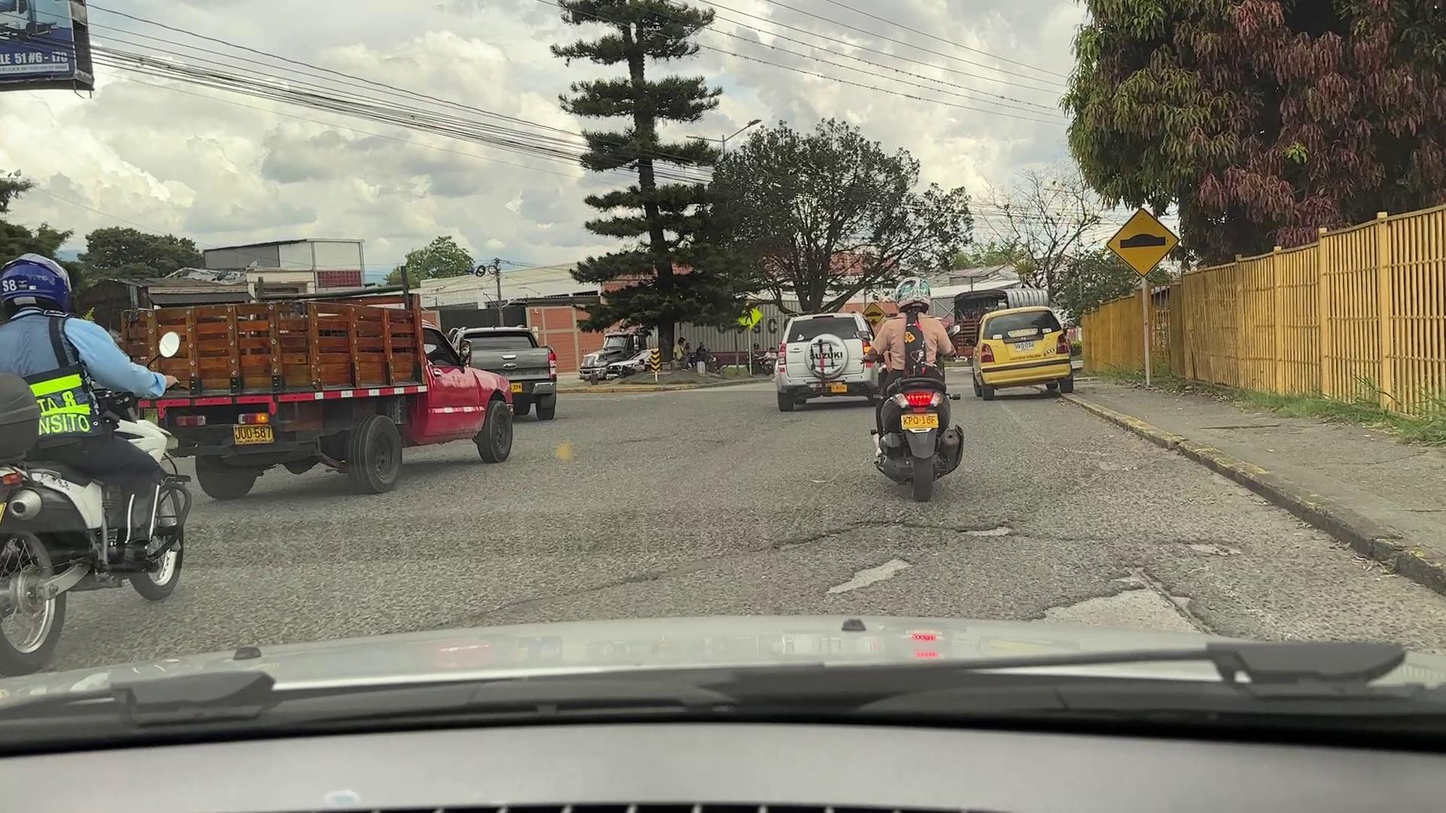bache: (1041, 571, 1210, 633), (828, 559, 911, 593), (1189, 540, 1242, 554), (962, 526, 1011, 537)
